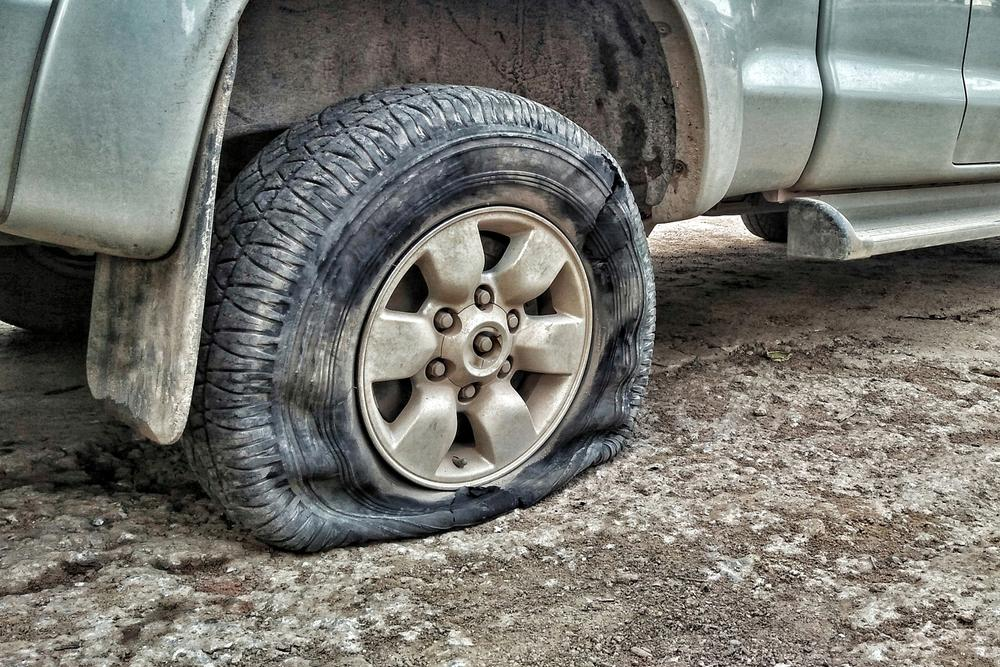tire flat: (181, 83, 657, 556)
